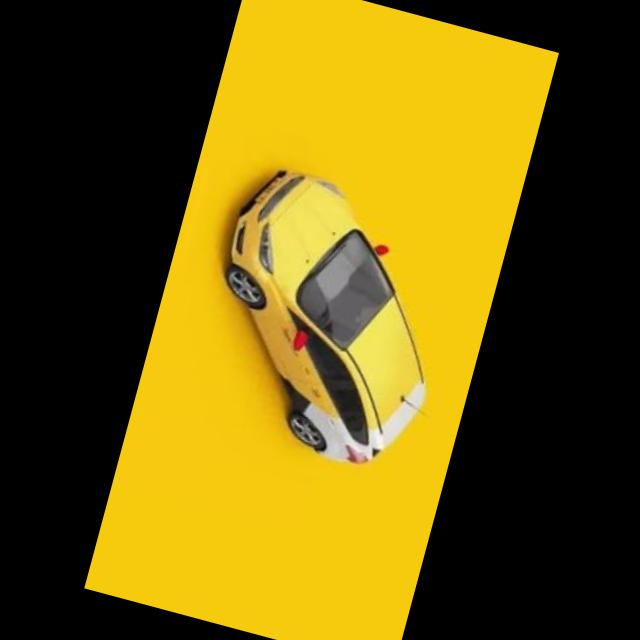taxi: (184, 158, 481, 481)
